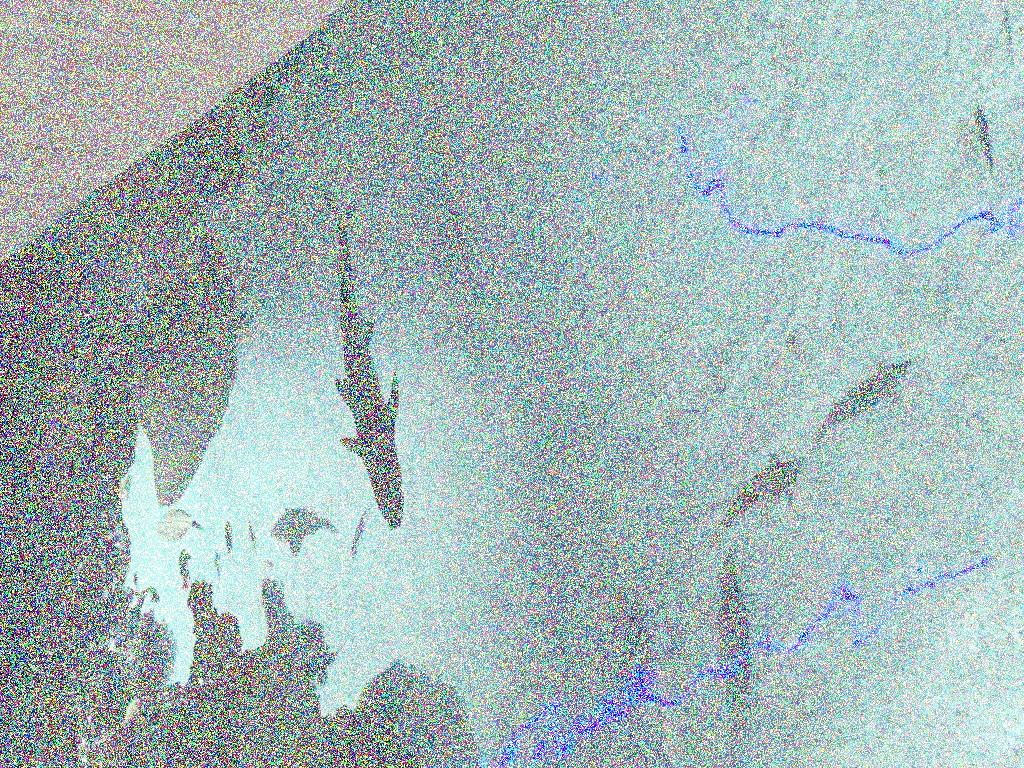fish: (814, 356, 916, 452), (709, 450, 803, 536), (970, 104, 1000, 194), (152, 508, 198, 544), (350, 503, 372, 562), (289, 509, 307, 561), (177, 546, 191, 592), (222, 519, 234, 555)
shark: (334, 201, 404, 529)
stingray: (118, 224, 238, 506)
